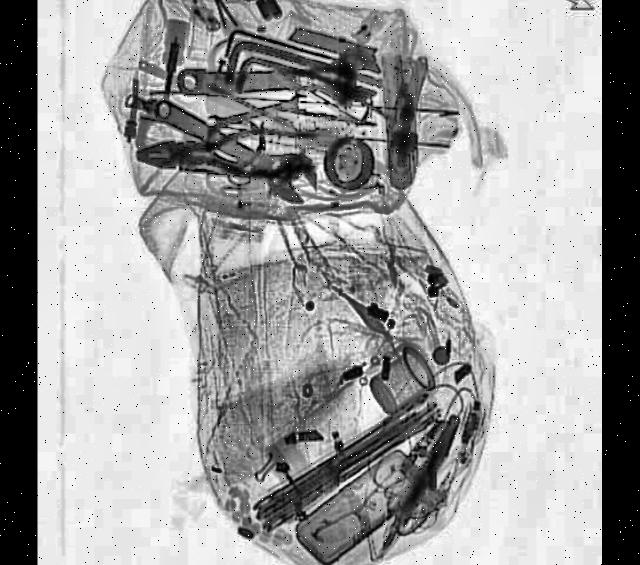Pliers: (137, 126, 322, 187)
Wrench: (148, 75, 329, 218), (177, 45, 382, 110)
